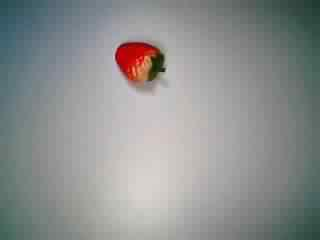strawberry: (105, 37, 174, 94)
